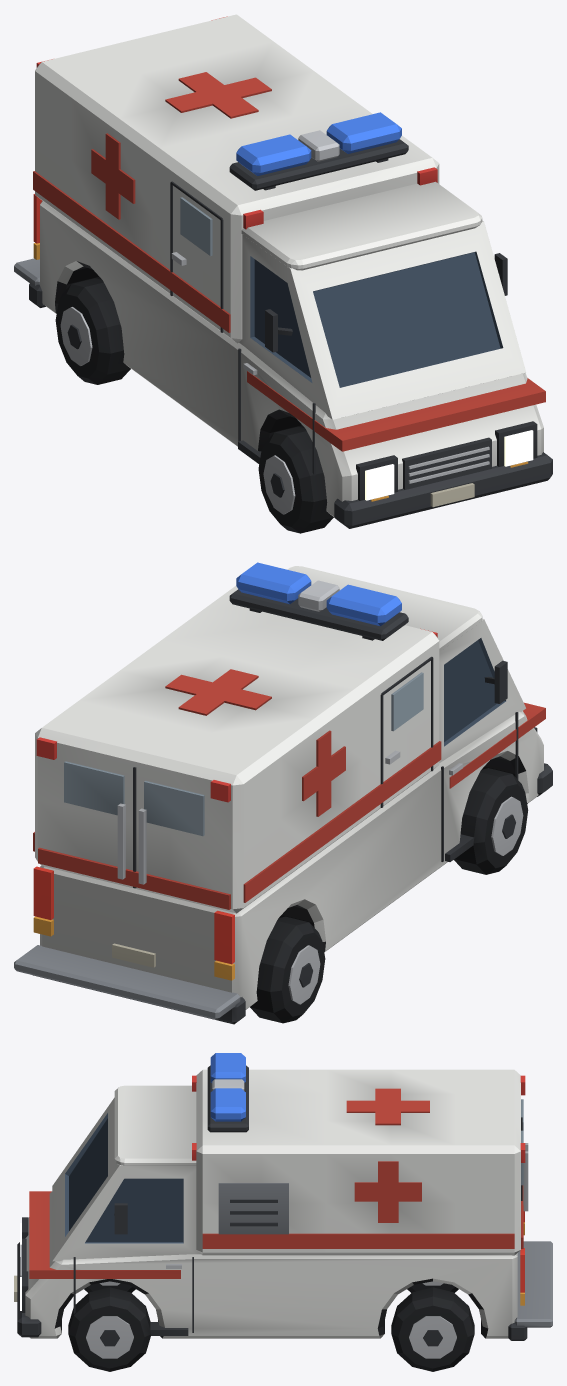
File: ambulance.glb
3 views of the same model, one above another, from view 1: azimuth 30°, elevation 25°; view 2: azimuth 150°, elevation 25°; view 3: azimuth 270°, elevation 25° (orthographic). The views are drawn at different scales.
Visible parts, largest first — view 1: Ambulance; view 2: Ambulance; view 3: Ambulance.
Part boxes in pixels (x1=…): Ambulance: x1=14, y1=14, x2=552, y2=533; Ambulance: x1=14, y1=562, x2=552, y2=1024; Ambulance: x1=14, y1=1053, x2=552, y2=1371.
Size of the model in its own units: 1.35 by 1.73 by 3.37.
